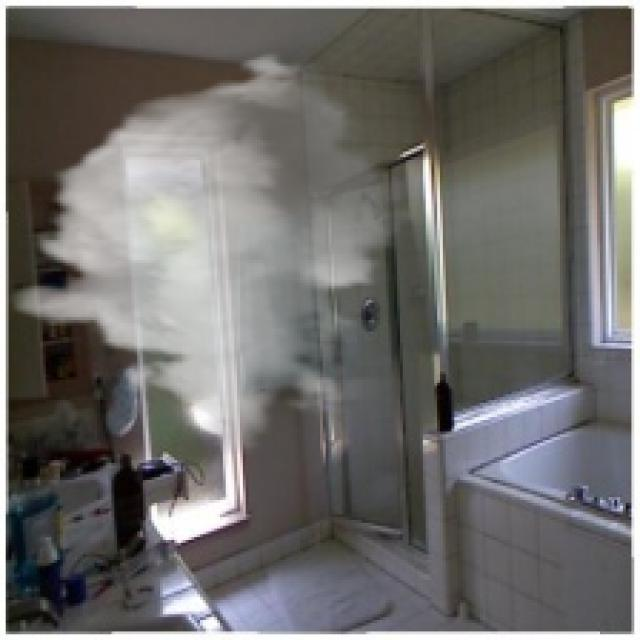smoke: (8, 49, 426, 454)
